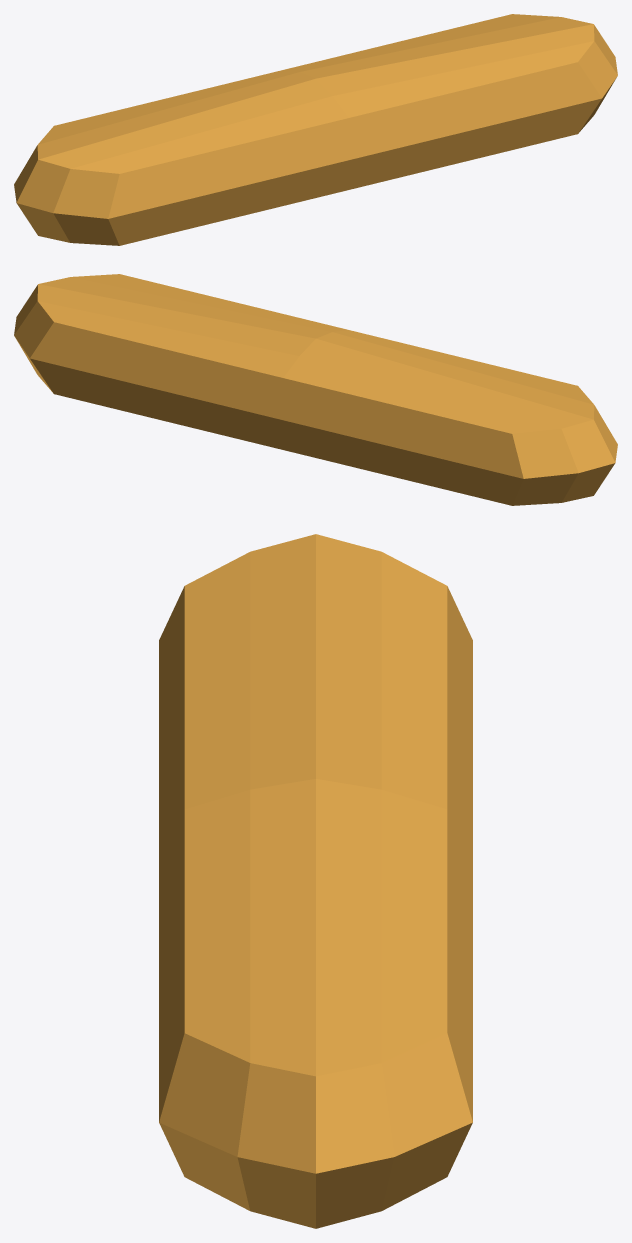
Rendered from baguette.fbx.
3 renders of one model, top to bottom at view 1: azimuth 30°, elevation 25°; view 2: azimuth 150°, elevation 25°; view 3: azimuth 270°, elevation 25°, orthographic. The views are drawn at different scales.
Visible parts, largest first — view 1: _baggete; view 2: _baggete; view 3: _baggete.
Part boxes in pixels (x1,y1,x2,y2): _baggete: (14, 14, 617, 245); _baggete: (14, 274, 617, 505); _baggete: (159, 534, 472, 1228).
Size of the model in its own units: 113 by 18.49 by 25.62.
